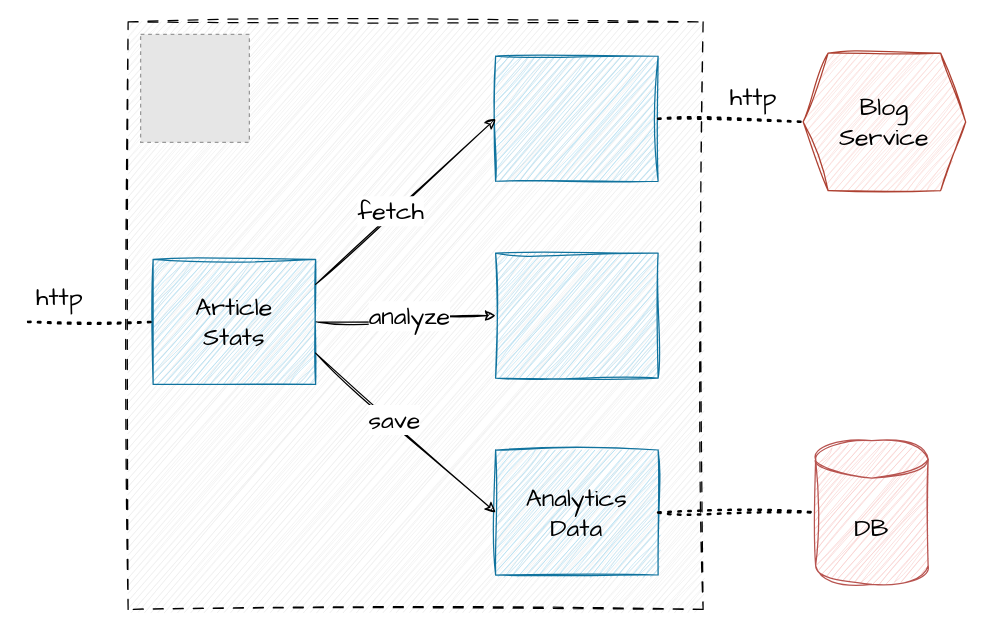
The diagram is 988 pixels wide and 631 high, and some of its shapes have lost their labels. Grey dashed boxes stand in for pictures. The centre of each missing label's shape, as x and y in pixels:
Blog Client: pixel 576 118
Linguistics: pixel 576 315
